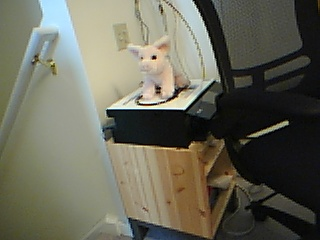piggy: (126, 34, 191, 101)
